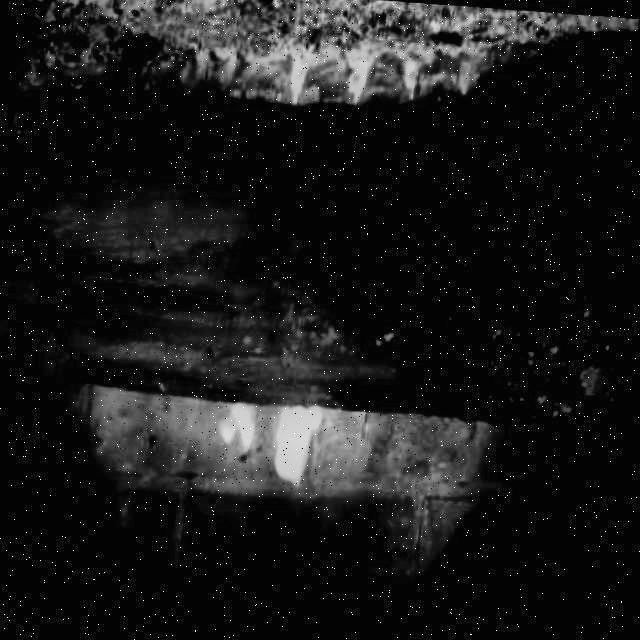Fire: (212, 371, 331, 503)
